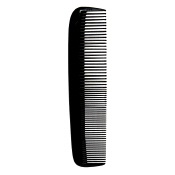grozi_17: (68, 7, 106, 167)
